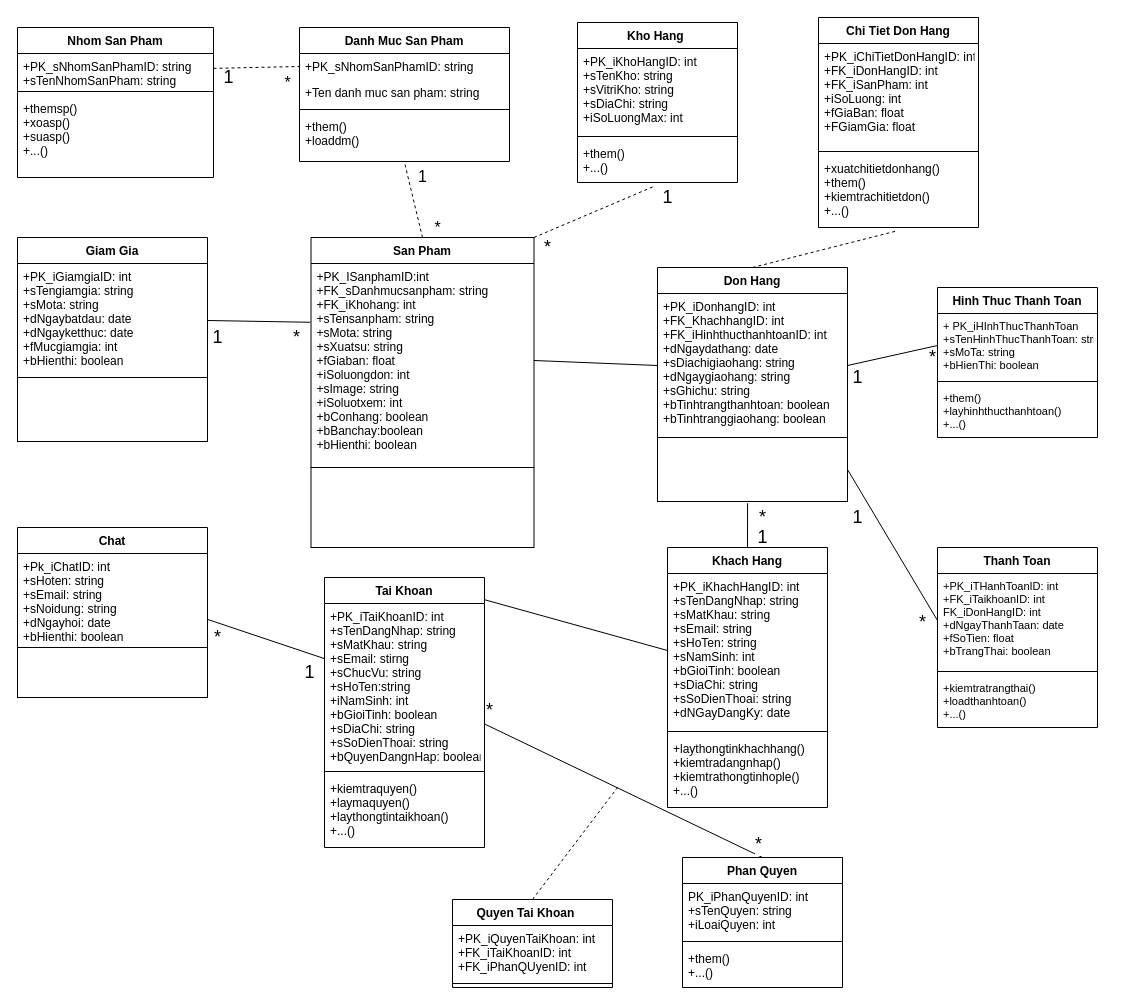
Image size: 1124x1008. Some labels were removed from this diagram. Each missing label, with the centre of its shape:
+laygiamgia() +them() +......(): the point at 112,409
+laythongtindonhang() +kiemtradonhang() +laymadonhang() +......(): the point at 752,469
+laythongtinsanpham() +laytheoma() +kiemtrasoluongton() +laygiaban() +......(): the point at 422,507
+loadchat +them() +......(): the point at 112,672
